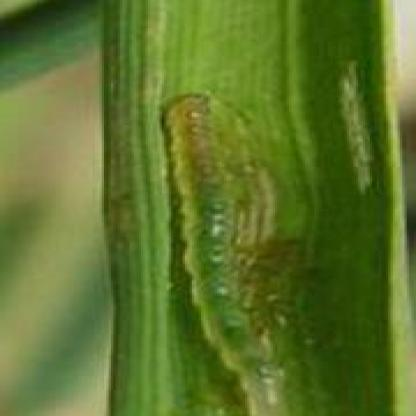leaf-folder: (138, 85, 312, 389)
